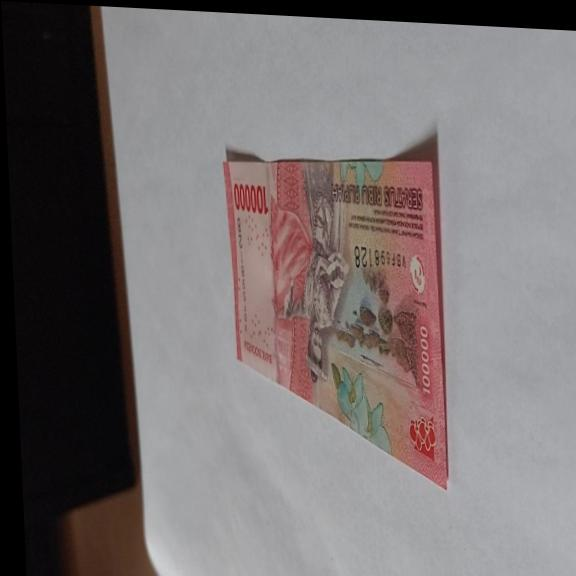Kertas: (220, 142, 451, 491)
